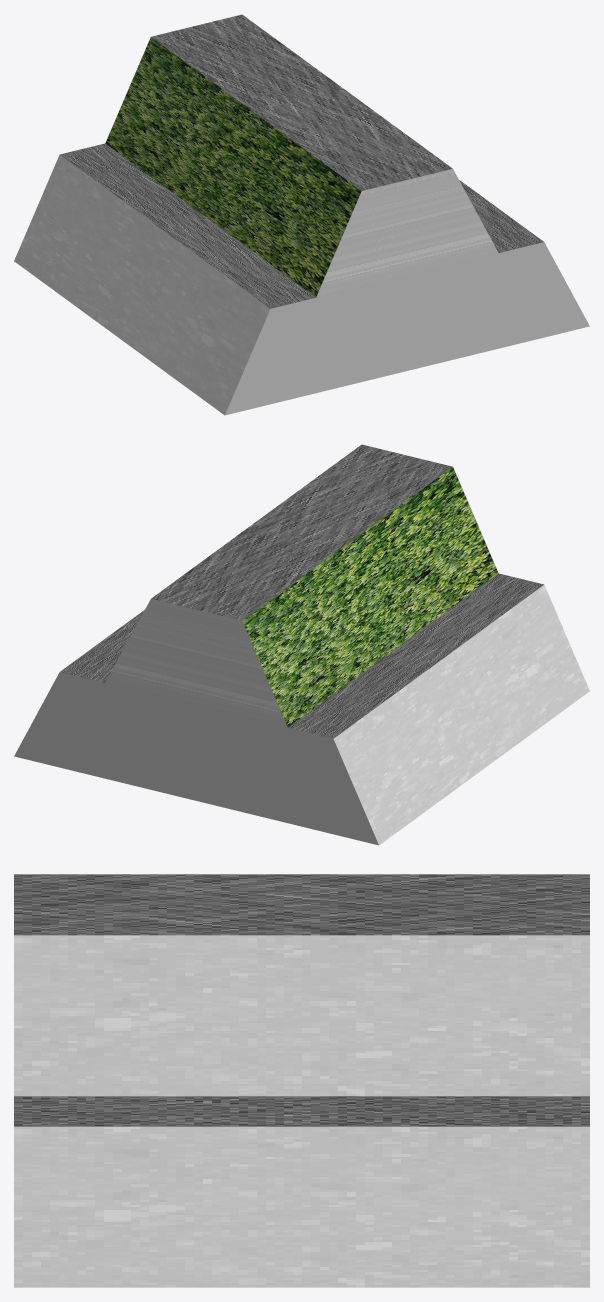
The model's file is levee.fbx.
3 views of the same model, one above another, from view 1: azimuth 30°, elevation 25°; view 2: azimuth 150°, elevation 25°; view 3: azimuth 270°, elevation 25° (orthographic). The views are drawn at different scales.
Parts seen in each view (by area): view 1: levee; view 2: levee; view 3: levee.
Boxes of the visible parts, x1,y1,x2,y2 form: levee: [14, 14, 589, 415]; levee: [14, 444, 589, 845]; levee: [14, 874, 589, 1287].
Bounding box in the file's own units: 200 × 100 × 200.
